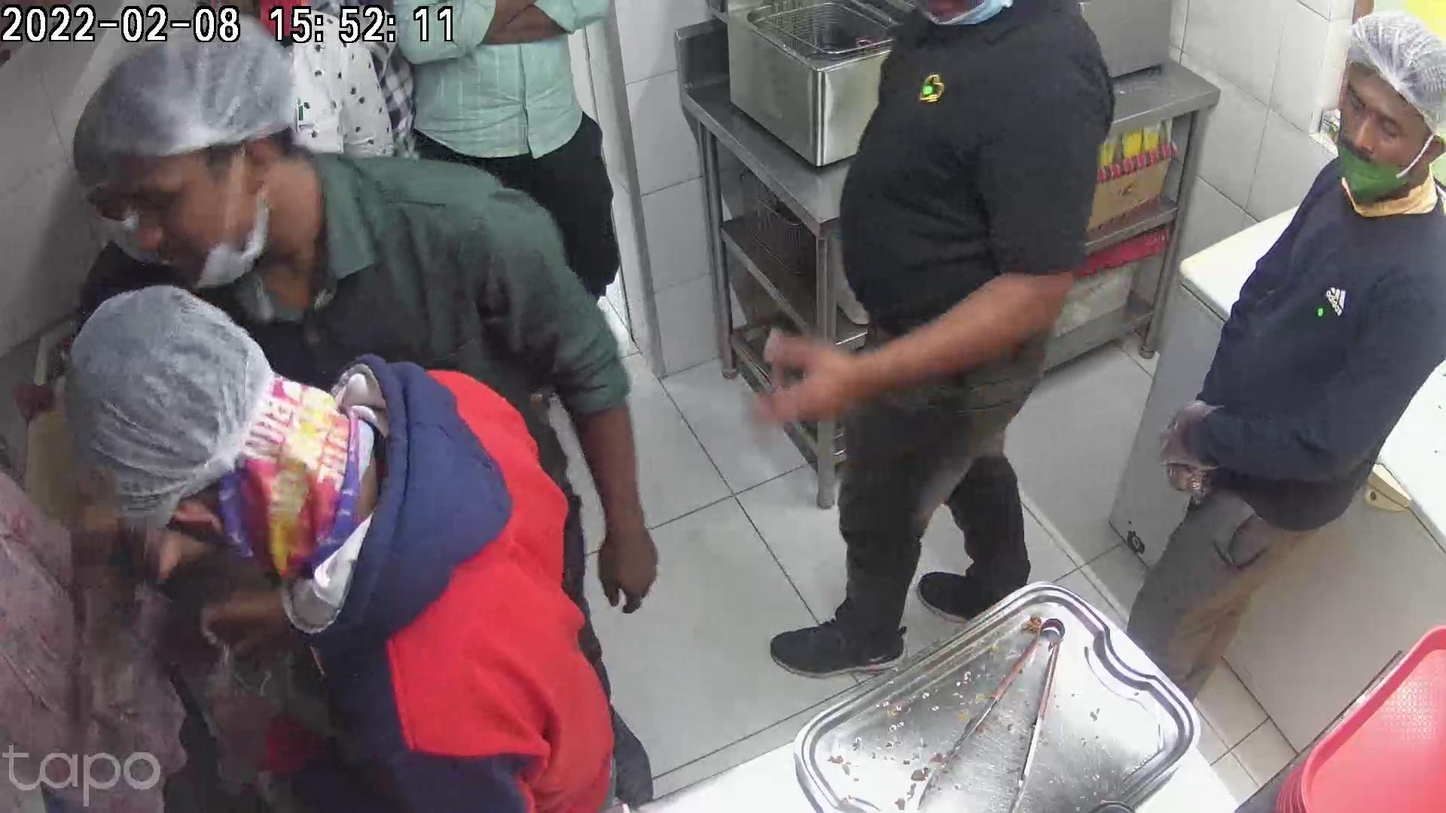no_gloves: (601, 499, 660, 614)
